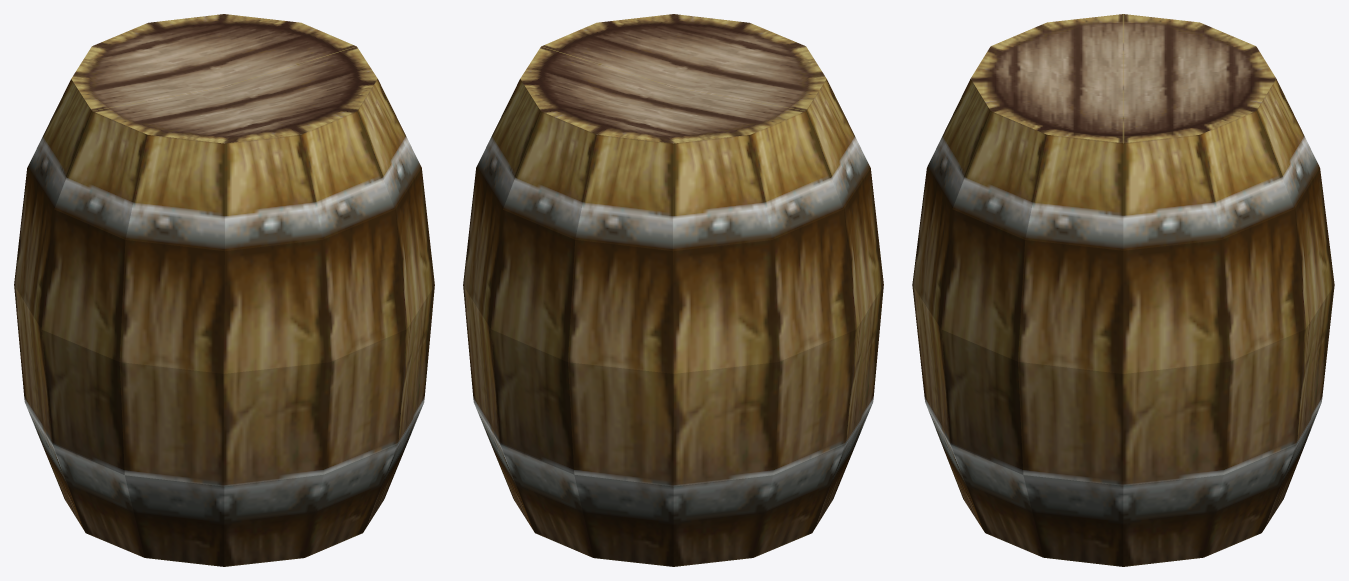
Rendered from crate-barrel-lod2.glb.
3 views of the same model, side by side, from view 1: azimuth 30°, elevation 25°; view 2: azimuth 150°, elevation 25°; view 3: azimuth 270°, elevation 25° (orthographic).
Visible parts, largest first — view 1: crate-barrel-lod2; view 2: crate-barrel-lod2; view 3: crate-barrel-lod2.
Boxes of the visible parts, bbox=[...] form: crate-barrel-lod2: bbox=[14, 14, 434, 566]; crate-barrel-lod2: bbox=[463, 14, 883, 566]; crate-barrel-lod2: bbox=[912, 14, 1334, 566].
Bounding box in the file's own units: 2 × 2.19 × 2.
Materials: 2 (2 with a texture image).
